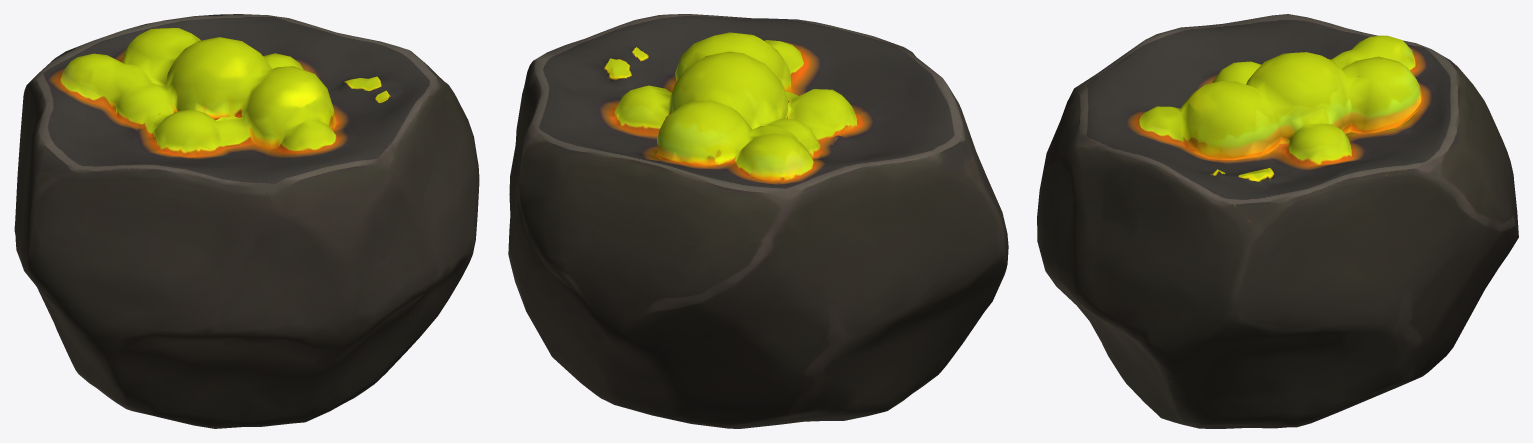
3 views of the same model, side by side, from view 1: azimuth 30°, elevation 25°; view 2: azimuth 150°, elevation 25°; view 3: azimuth 270°, elevation 25° (orthographic). The views are drawn at different scales.
Visible parts, largest first — view 1: Mesh_0; view 2: Mesh_0; view 3: Mesh_0.
Boxes of the visible parts, box(x1,y1,x2,y2) form: Mesh_0: box(14, 14, 479, 428); Mesh_0: box(508, 14, 1008, 428); Mesh_0: box(1037, 14, 1518, 428).
Bounding box in the file's own units: 1.91 × 1.32 × 1.75.
1 material, 1 textured.
